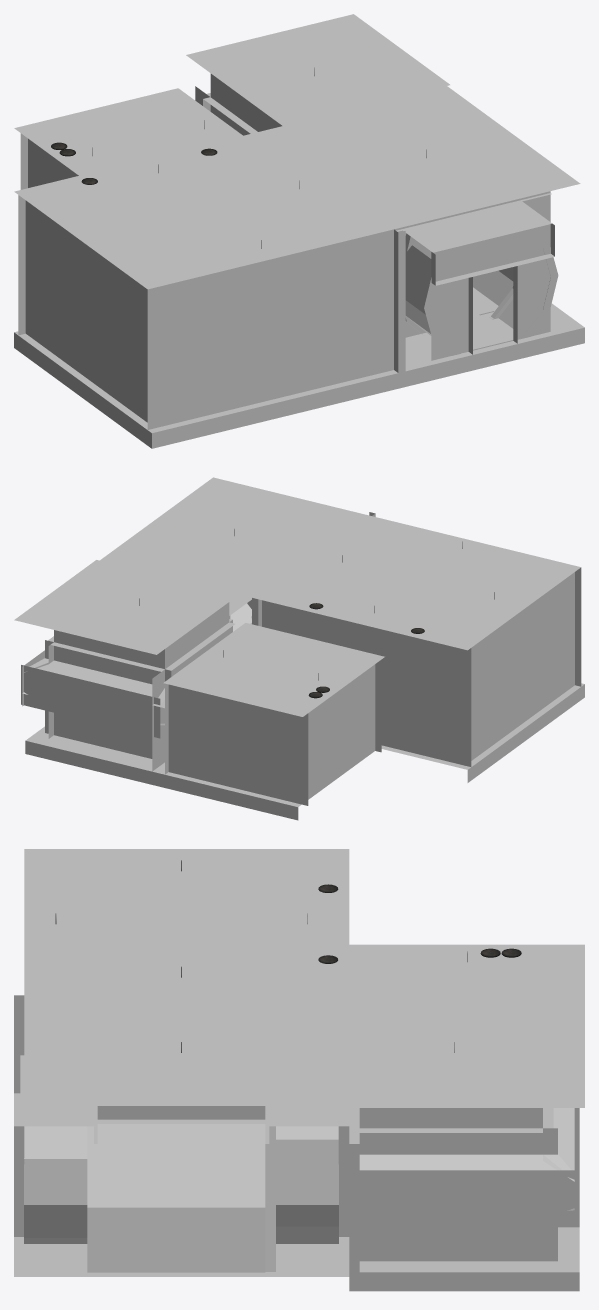
File: room1_Scp096.fbx
The picture shows the model from 3 angles, top to bottom: view 1: azimuth 30°, elevation 25°; view 2: azimuth 150°, elevation 25°; view 3: azimuth 270°, elevation 25°; orthographic projection. The views are drawn at different scales.
Parts seen in each view (by area): view 1: room1_Scp096; view 2: room1_Scp096; view 3: room1_Scp096.
Part boxes in pixels (x1,y1,x2,y2): room1_Scp096: [14, 14, 584, 448]; room1_Scp096: [14, 477, 584, 820]; room1_Scp096: [14, 849, 584, 1291].
Size of the model in its own units: 18.72 by 6.77 by 17.44.
